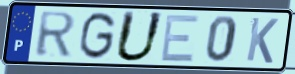0: (203, 15, 239, 65)
E: (158, 13, 201, 64)
G: (77, 10, 118, 61)
K: (244, 16, 280, 66)
R: (34, 11, 78, 59)
U: (113, 9, 167, 64)
